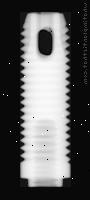3M ESPE: (20, 12, 71, 187)
